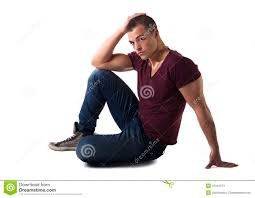sitting: (45, 6, 244, 173)
